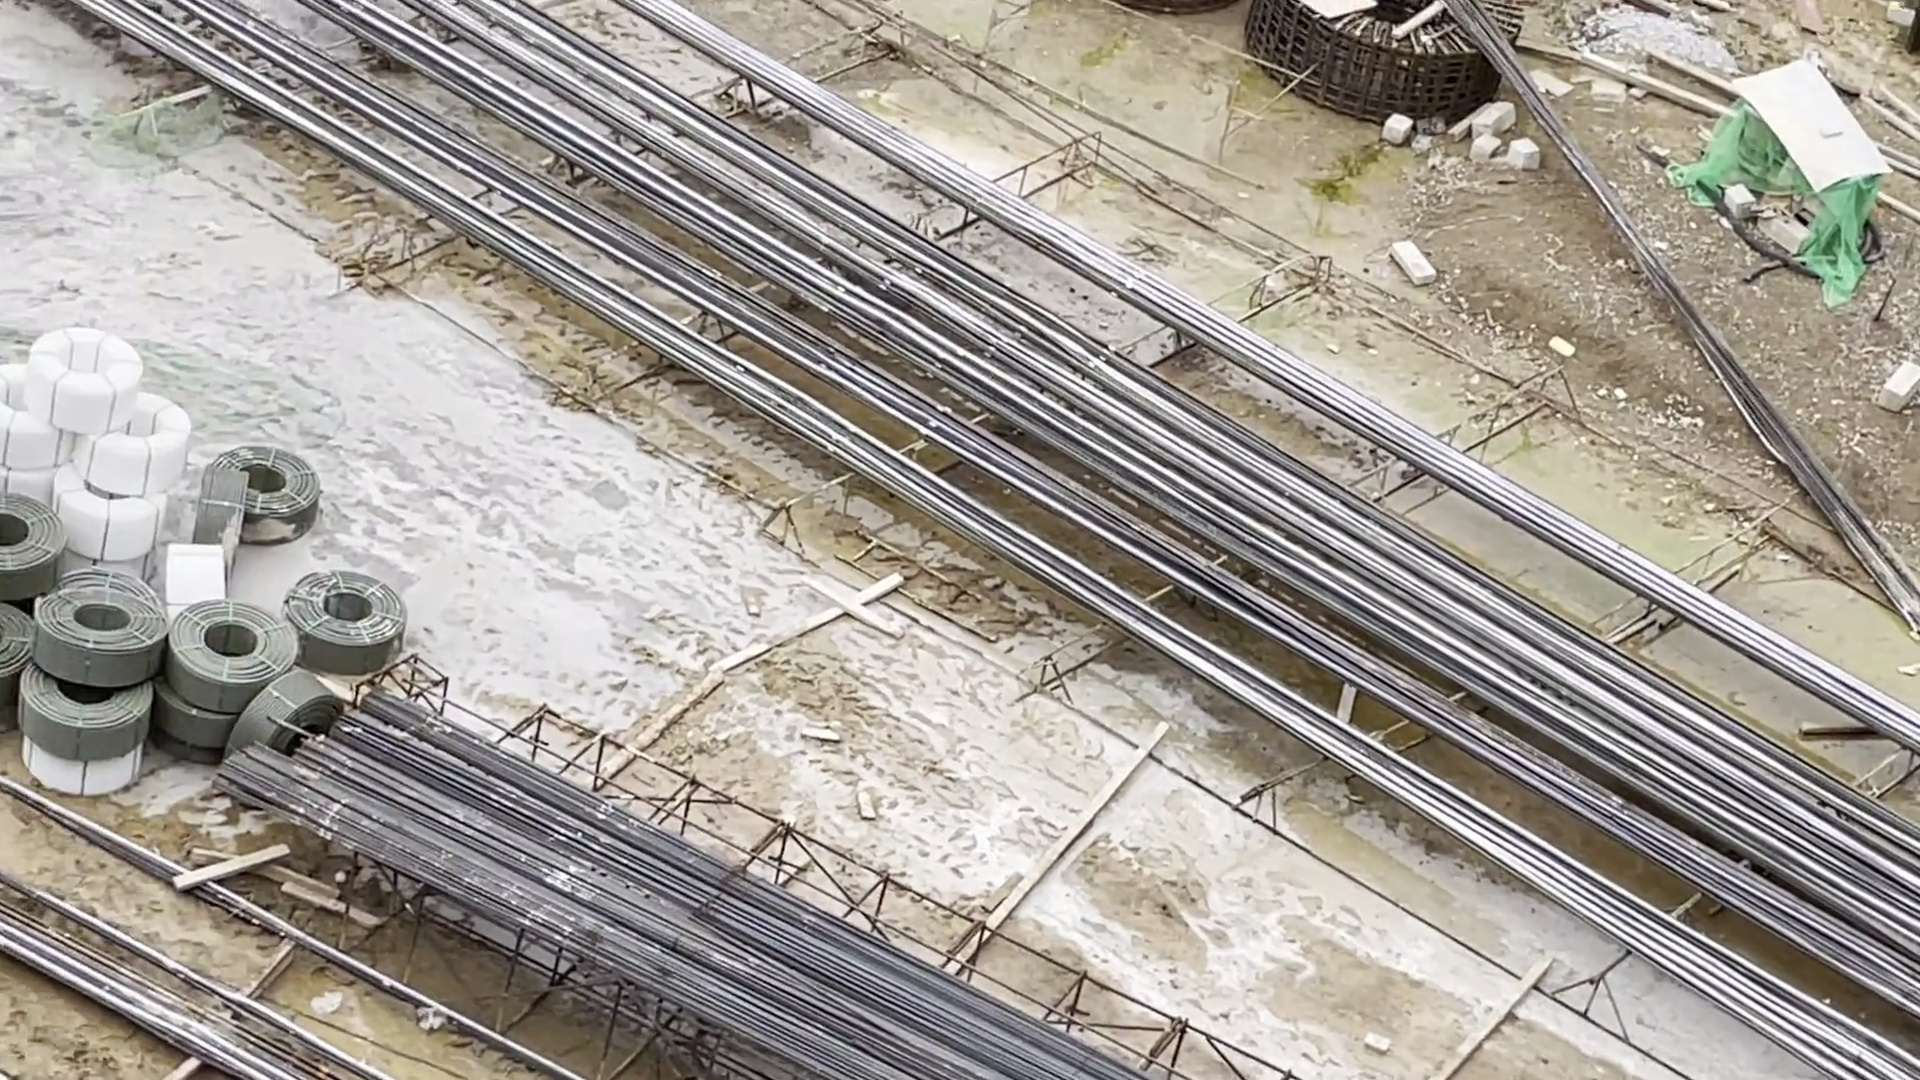rebar: (411, 17, 1254, 556), (202, 651, 1175, 1080), (1262, 501, 1920, 973)
